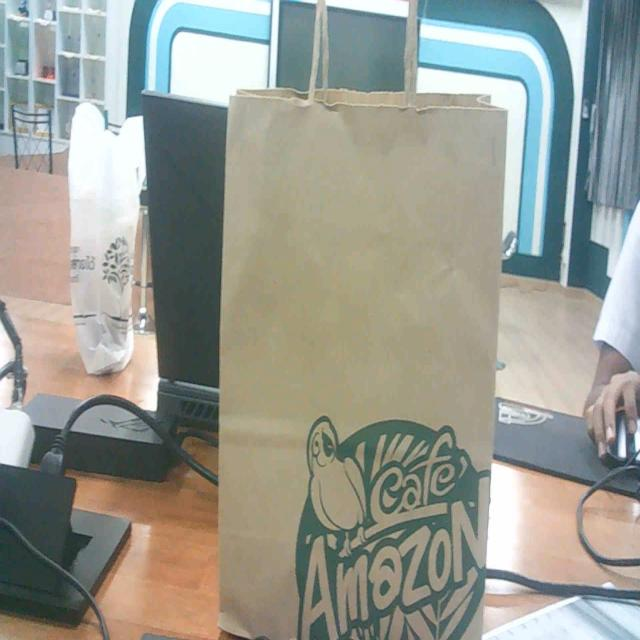bag: (205, 26, 530, 640)
